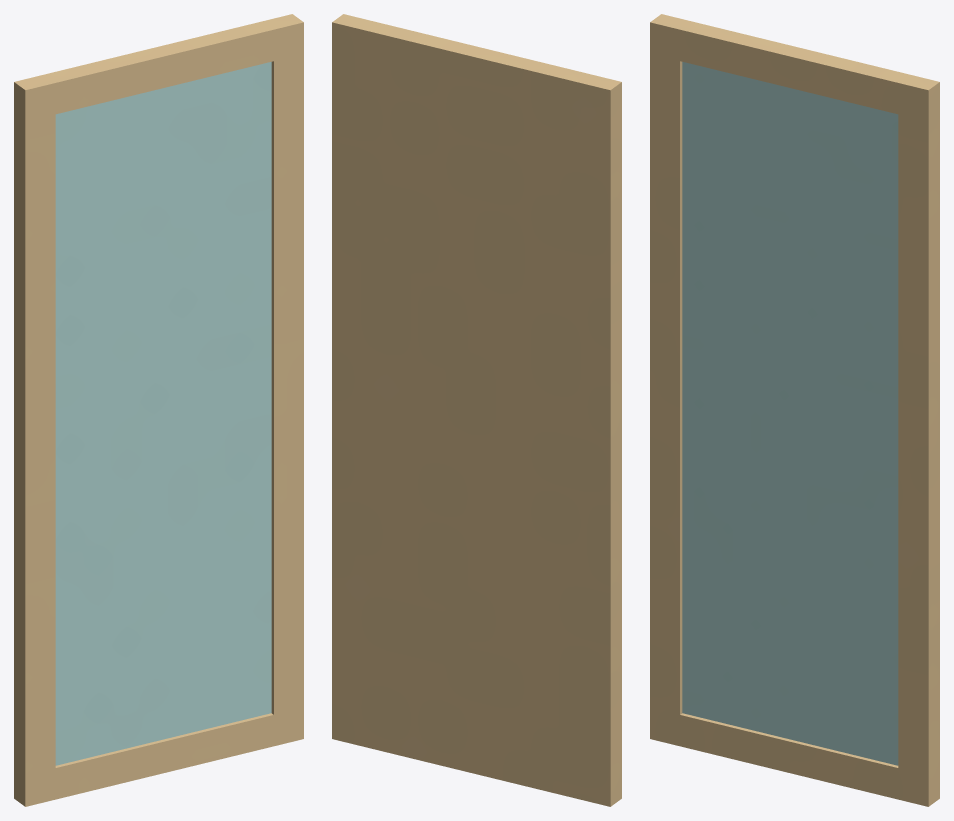
Rendered from Mirror_01_01.fbx.
3 renders of one model, left to right at view 1: azimuth 30°, elevation 25°; view 2: azimuth 150°, elevation 25°; view 3: azimuth 330°, elevation 25°, orthographic.
Parts seen in each view (by area): view 1: Mirror_01_01; view 2: Mirror_01_01; view 3: Mirror_01_01.
Boxes of the visible parts, x1=… form: Mirror_01_01: x1=14, y1=14, x2=303, y2=806; Mirror_01_01: x1=332, y1=14, x2=621, y2=806; Mirror_01_01: x1=650, y1=14, x2=939, y2=806.
Bounding box in the file's own units: 0.5642 × 1.39 × 0.0401.
